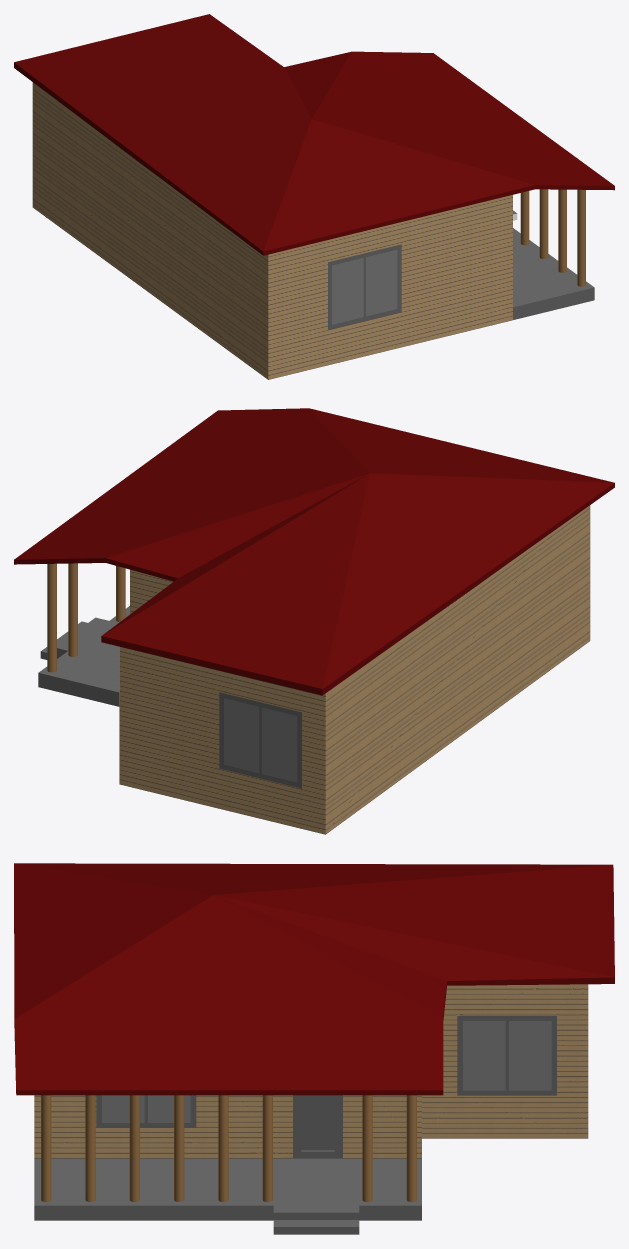
Rendered from houses1.fbx.
The picture shows the model from 3 angles, top to bottom: view 1: azimuth 30°, elevation 25°; view 2: azimuth 150°, elevation 25°; view 3: azimuth 270°, elevation 25°; orthographic projection. The views are drawn at different scales.
Parts seen in each view (by area): view 1: Group1; view 2: Group1; view 3: Group1.
Boxes of the visible parts, left/top/right/bottom form: Group1: left=14, top=14, right=614, bottom=379; Group1: left=14, top=408, right=614, bottom=834; Group1: left=14, top=863, right=614, bottom=1234.
Bounding box in the file's own units: 893 × 412 × 1085.
